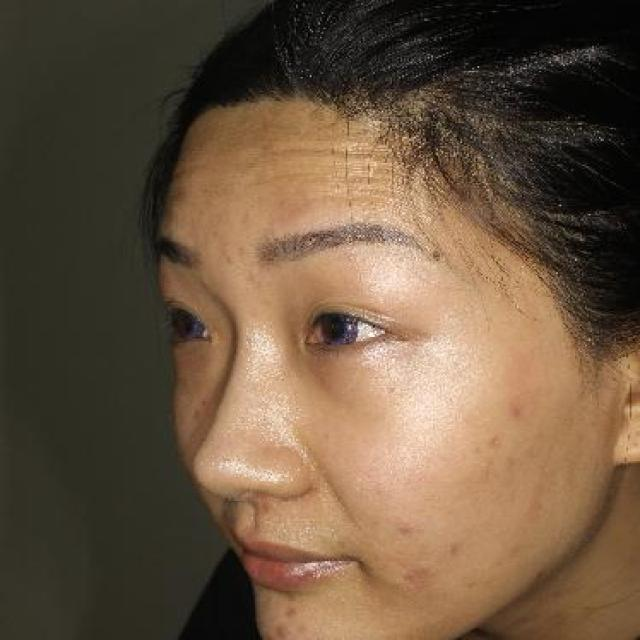blackheads: (506, 400, 530, 423), (272, 620, 293, 640), (484, 432, 505, 451), (448, 543, 471, 560), (412, 563, 430, 580), (282, 604, 303, 618), (335, 535, 351, 551), (402, 568, 416, 584)
pustules: (400, 523, 420, 535)
